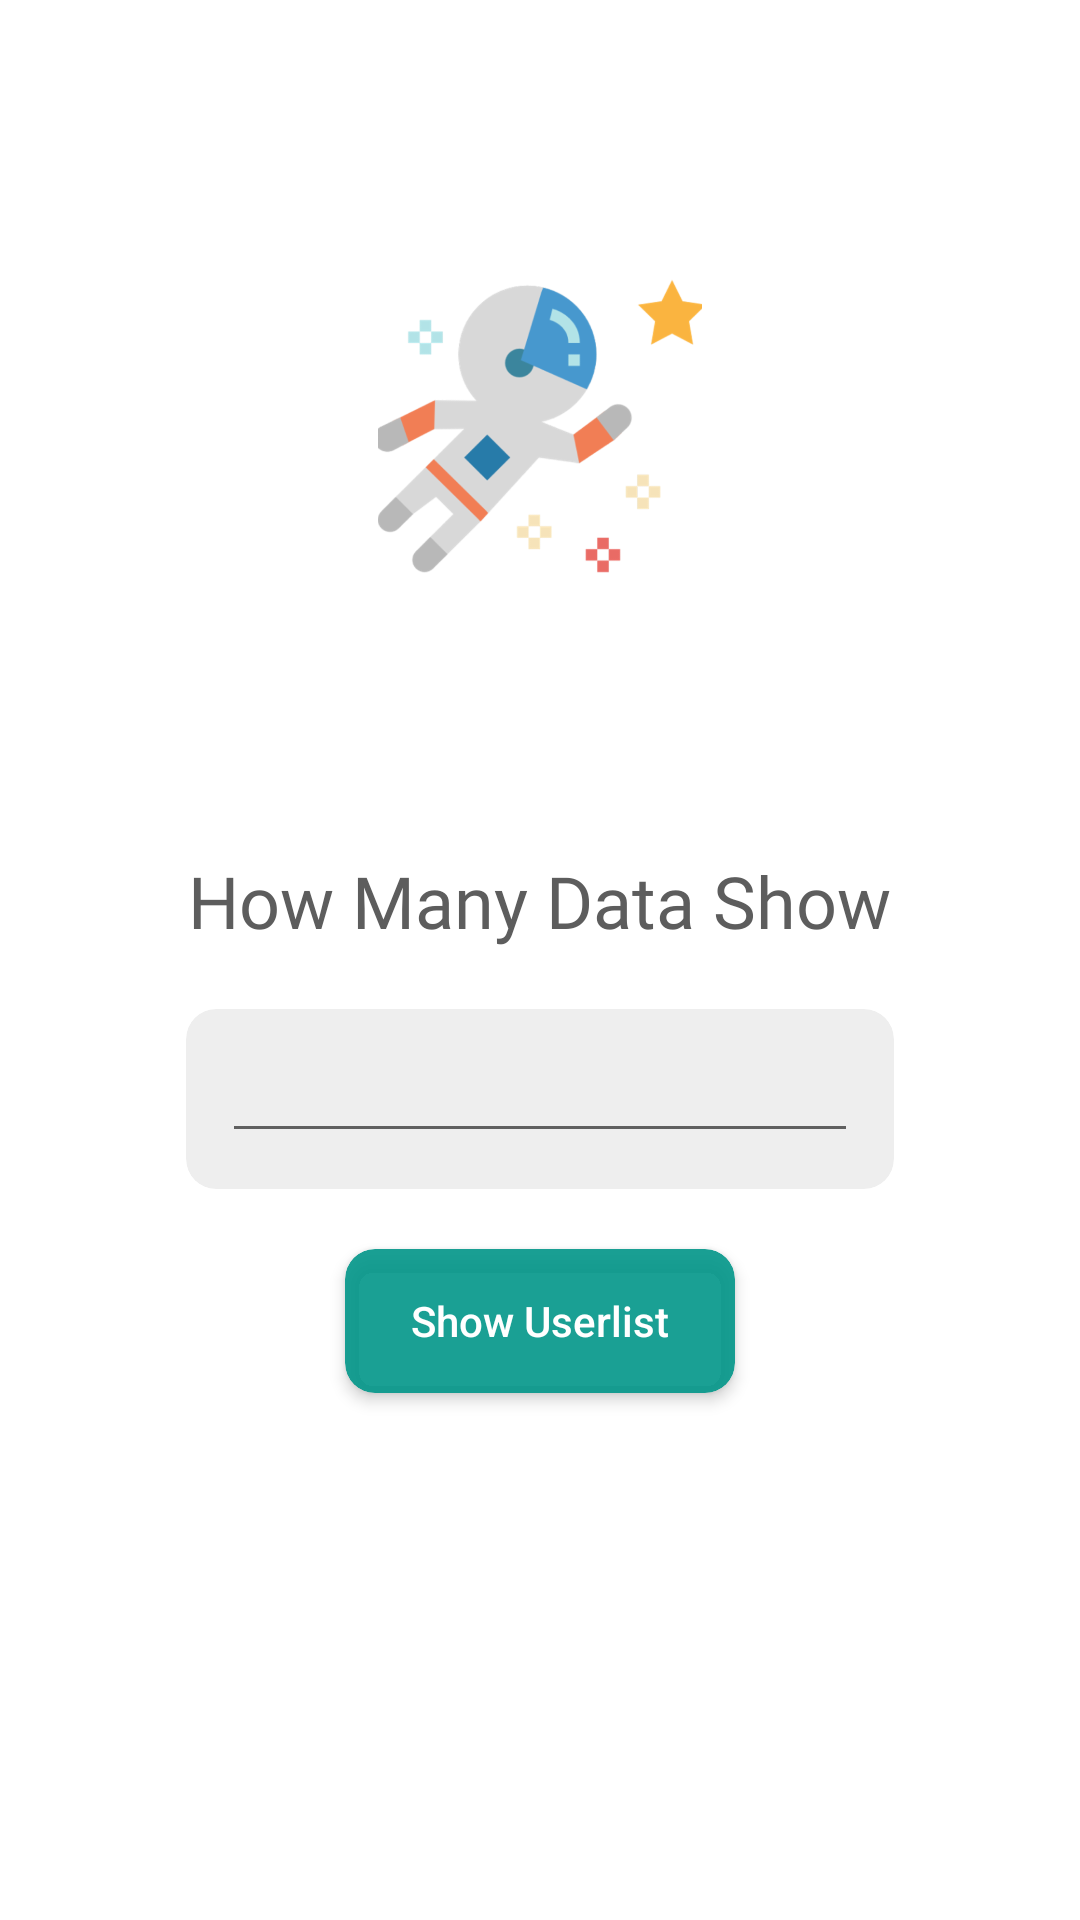

Screen size 1080 x 1920. Icon name, then its box in pixels as (x1, y1, x2, y2):
astronaut: (378, 280, 702, 573)
